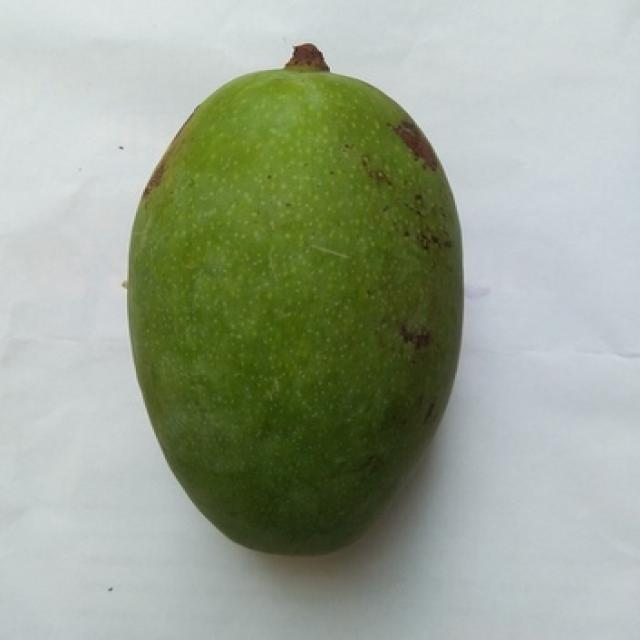Mango: (127, 46, 462, 554)
